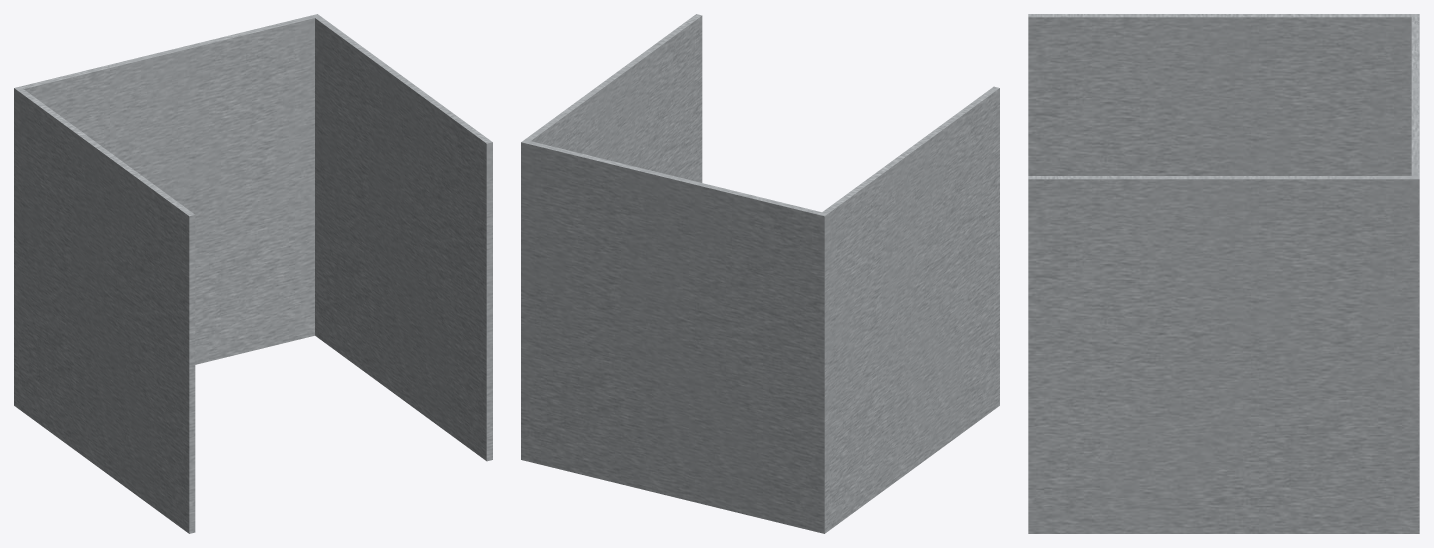
File: Duct_NS_1m.gltf
3 views of the same model, side by side, from view 1: azimuth 30°, elevation 25°; view 2: azimuth 150°, elevation 25°; view 3: azimuth 270°, elevation 25° (orthographic). The views are drawn at different scales.
Visible parts, largest first — view 1: root; view 2: root; view 3: root.
Part boxes in pixels (bbox=[...]): root: bbox=[14, 14, 492, 533]; root: bbox=[521, 14, 999, 533]; root: bbox=[1028, 14, 1419, 533].
Size of the model in its own units: 1 by 1 by 1.
Materials: 1 (1 with a texture image).
